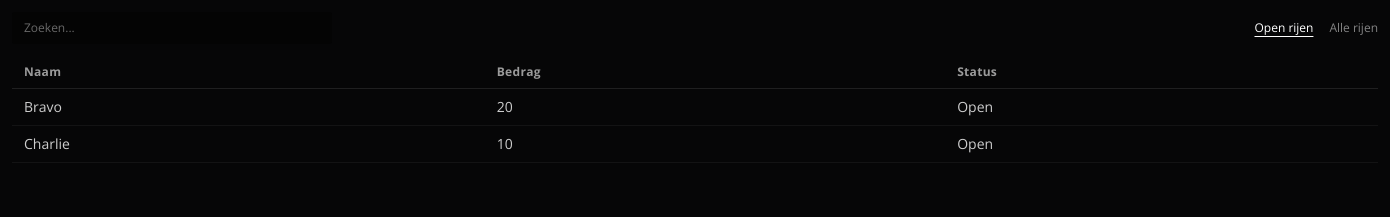
Test: DataTable › quickFilter › shows all rows after clicking the "all" quick filter link
Step 1. Click the button with test id "data-table-quick-all" → (1354,28), box [1329, 20, 1378, 36]
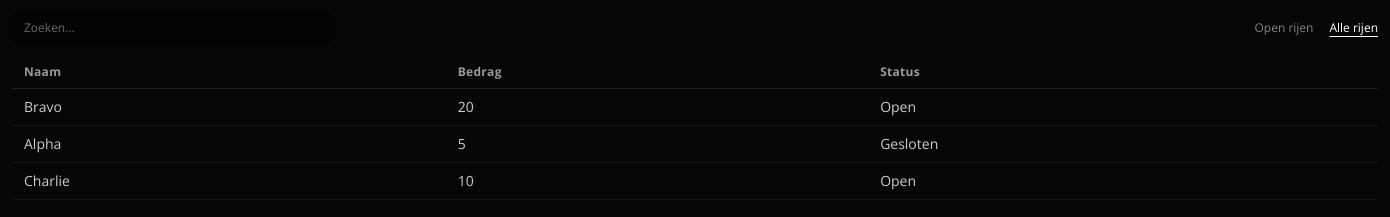
expect the row with test id "data-table-row-a" is shown: met, box [12, 88, 1378, 126]
expect the row with test id "data-table-row-b" is shown: met, box [12, 126, 1378, 162]
